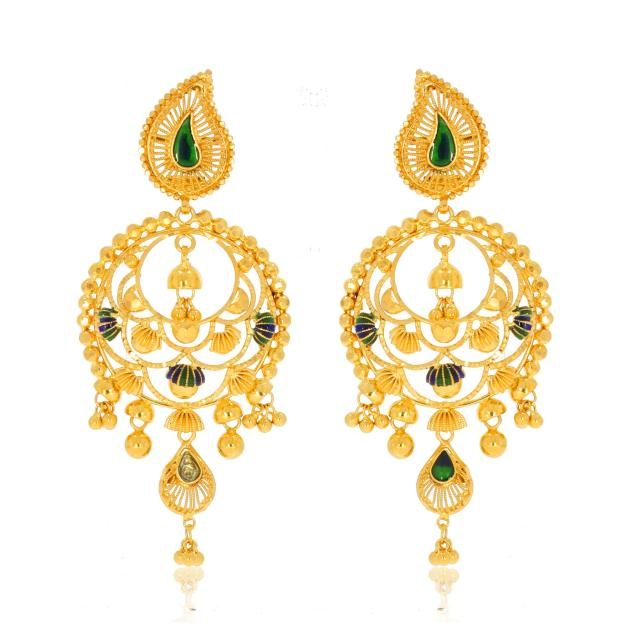missing gem: (179, 450, 200, 482)
